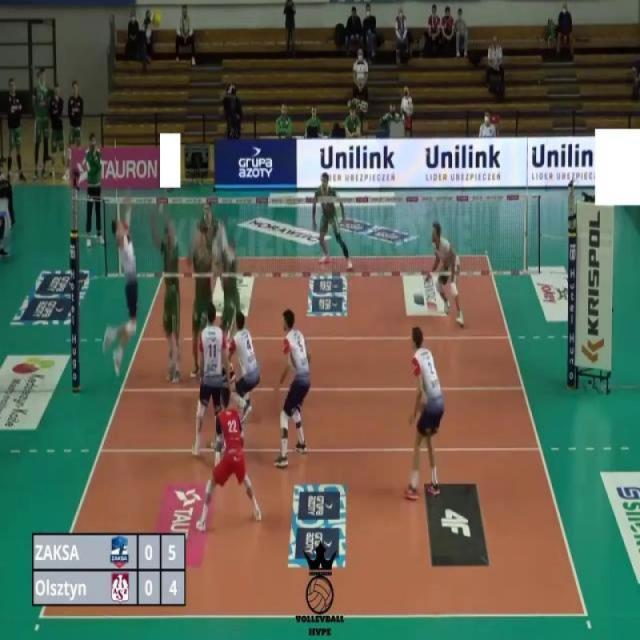volleyball: (150, 8, 162, 28)
